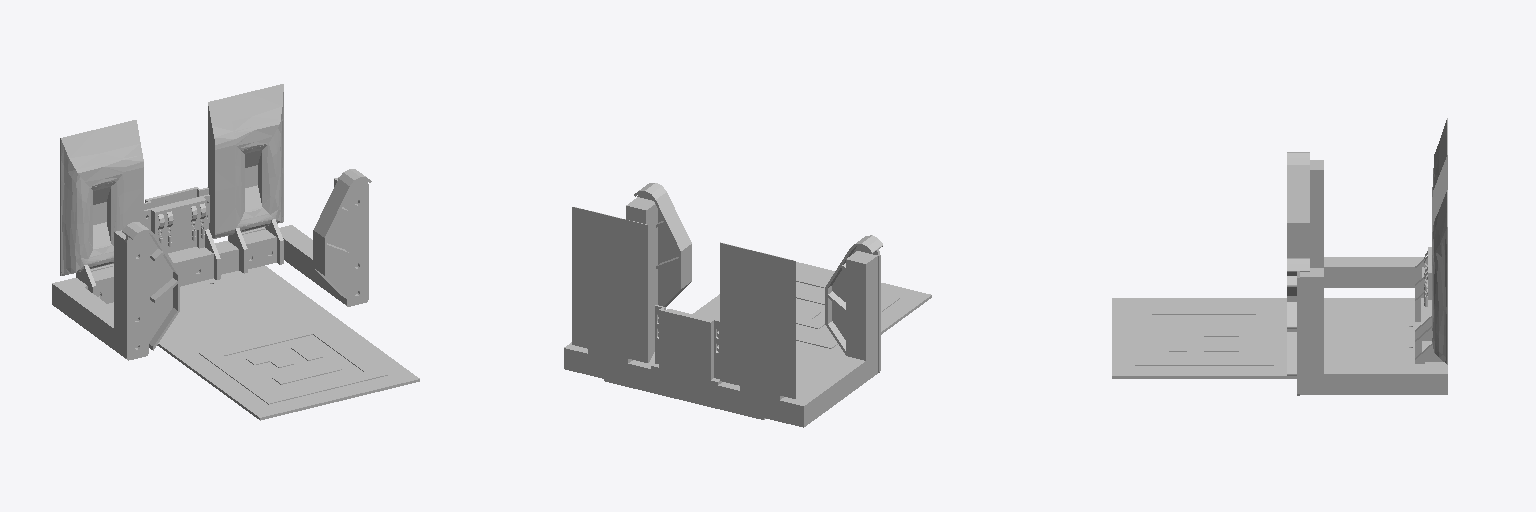
Rendered from Charging Dock Assembly.obj.
3 views of the same model, side by side, from view 1: azimuth 30°, elevation 25°; view 2: azimuth 150°, elevation 25°; view 3: azimuth 270°, elevation 25° (orthographic).
Visible parts, largest first — view 1: mesh94, mesh1, mesh45, mesh99, mesh104, mesh51, mesh155, mesh156, mesh233, mesh153, mesh54, mesh162 (+18 smaller); view 2: mesh225, mesh148, mesh204, mesh260, mesh94, mesh123, mesh125, mesh1, mesh51, mesh54, mesh236, mesh99 (+4 smaller); view 3: mesh94, mesh55, mesh126, mesh99, mesh104, mesh54, mesh24, mesh232, mesh25, mesh230, mesh26, mesh89 (+2 smaller).
Boxes of the visible parts, <box> form: mesh94: <box>108,266,419,417</box>; mesh1: <box>127,233,172,360</box>; mesh45: <box>327,180,368,306</box>; mesh99: <box>200,324,388,403</box>; mesh104: <box>224,335,362,393</box>; mesh51: <box>64,238,344,357</box>; mesh155: <box>61,140,92,223</box>; mesh156: <box>61,130,103,190</box>; mesh233: <box>248,84,283,151</box>; mesh153: <box>61,220,92,275</box>; mesh54: <box>64,233,312,327</box>; mesh162: <box>97,125,123,188</box>; mesh225: <box>572,207,647,362</box>; mesh148: <box>720,243,795,400</box>; mesh204: <box>564,348,803,427</box>; mesh260: <box>651,310,717,384</box>; mesh94: <box>652,262,930,391</box>; mesh123: <box>626,206,865,360</box>; mesh125: <box>646,204,877,360</box>; mesh1: <box>637,193,678,305</box>; mesh51: <box>656,299,877,418</box>; mesh54: <box>796,356,864,397</box>; mesh236: <box>648,225,655,362</box>; mesh99: <box>712,272,899,347</box>; mesh94: <box>1112,298,1420,375</box>; mesh55: <box>1300,267,1424,394</box>; mesh126: <box>1300,170,1323,373</box>; mesh99: <box>1135,307,1273,364</box>; mesh104: <box>1152,315,1255,357</box>; mesh54: <box>1324,257,1424,373</box>; mesh24: <box>1287,165,1309,222</box>; mesh232: <box>1433,229,1446,309</box>; mesh25: <box>1287,223,1309,257</box>; mesh230: <box>1432,305,1446,363</box>; mesh26: <box>1287,152,1309,277</box>; mesh89: <box>1112,376,1296,378</box>.
Bounding box in the file's own units: 0.302 × 0.1996 × 0.3641.